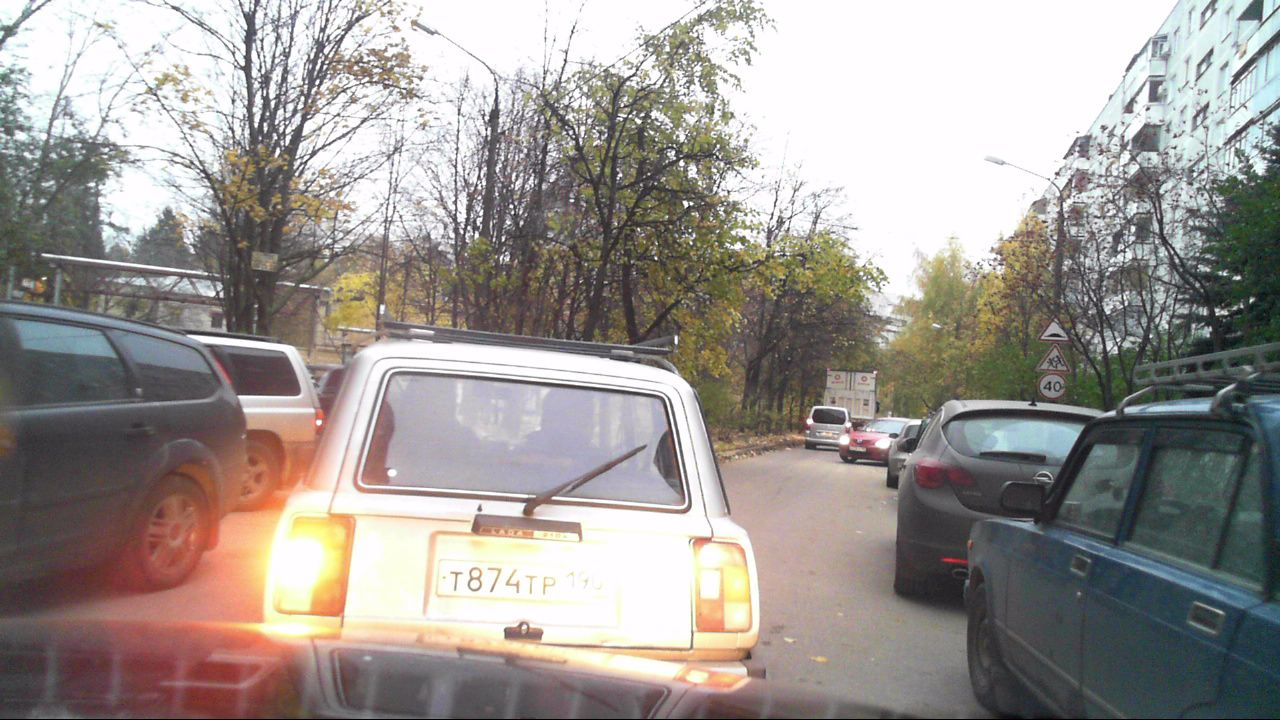speed_warning_40: (1037, 373, 1066, 399)
